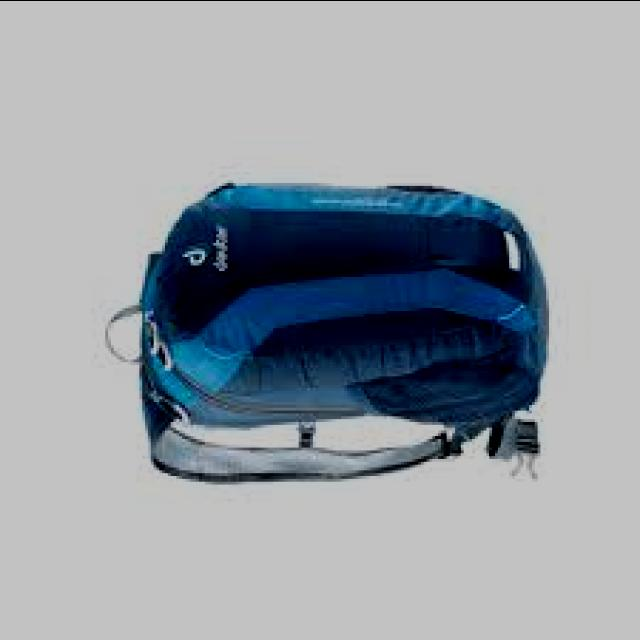backpack: (104, 183, 548, 487)
